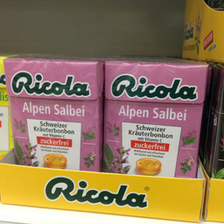candy: (104, 59, 204, 195), (6, 56, 101, 185)
